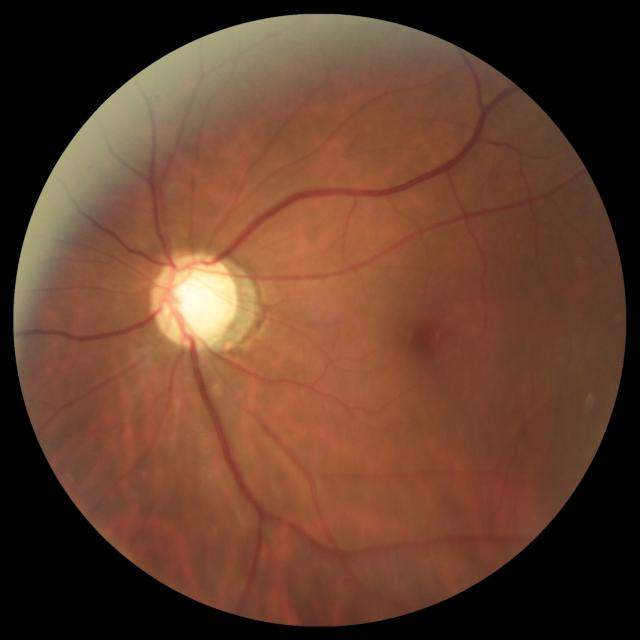OC: (166, 265, 230, 337)
OD: (151, 251, 239, 349)
